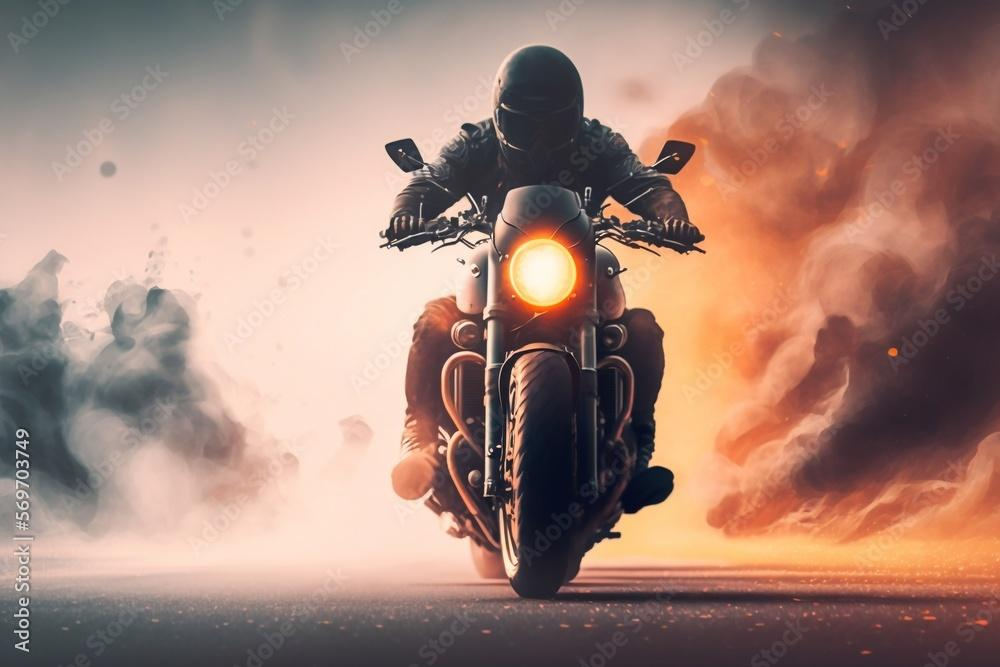helmet: (490, 44, 585, 181)
